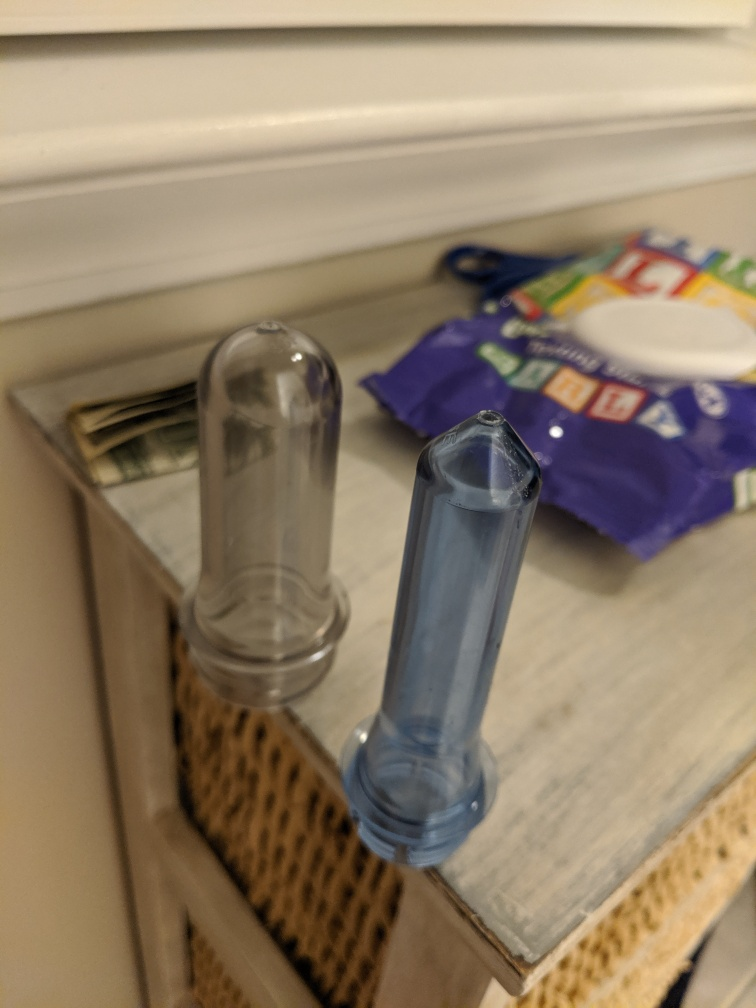preform: (330, 401, 552, 879), (172, 307, 356, 716)
